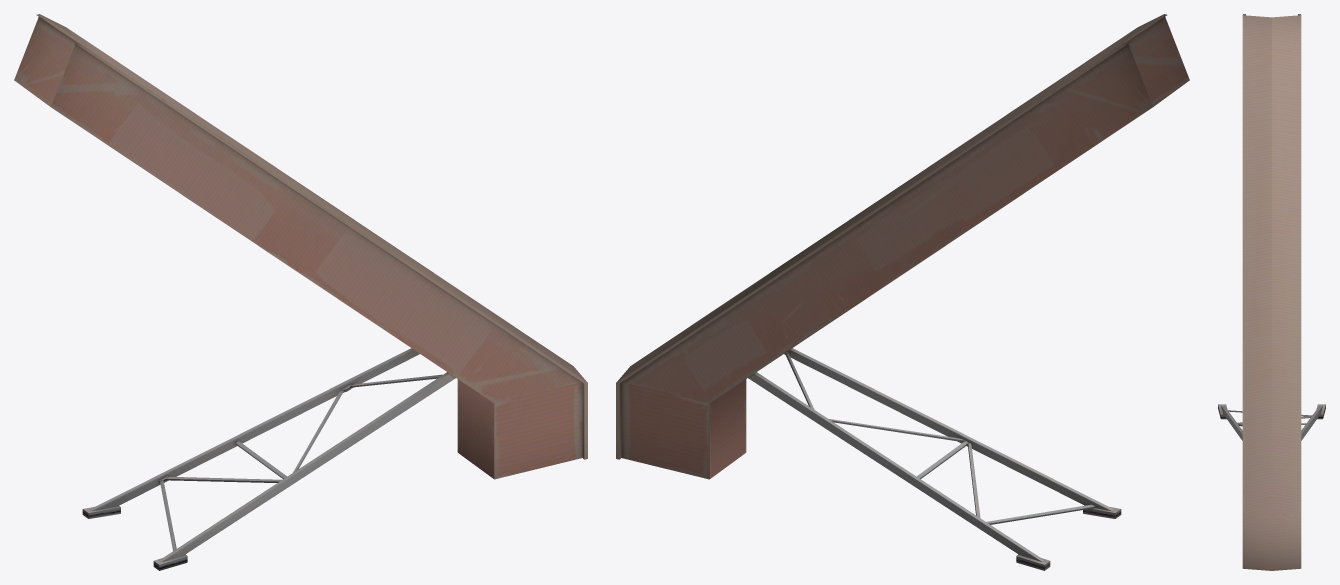
The model's file is props_2fort_grainconveyor001.glb.
3 renders of one model, left to right at view 1: azimuth 30°, elevation 25°; view 2: azimuth 150°, elevation 25°; view 3: azimuth 270°, elevation 25°, orthographic. The views are drawn at different scales.
Parts seen in each view (by area): view 1: models/props_2fort/grainconveyor001; view 2: models/props_2fort/grainconveyor001; view 3: models/props_2fort/grainconveyor001.
Part boxes in pixels (x1,y1,x2,y2): models/props_2fort/grainconveyor001: (14,14,587,570); models/props_2fort/grainconveyor001: (616,14,1189,570); models/props_2fort/grainconveyor001: (1218,14,1325,570).
Size of the model in its own units: 543 by 516 by 133.
1 material, 1 textured.
